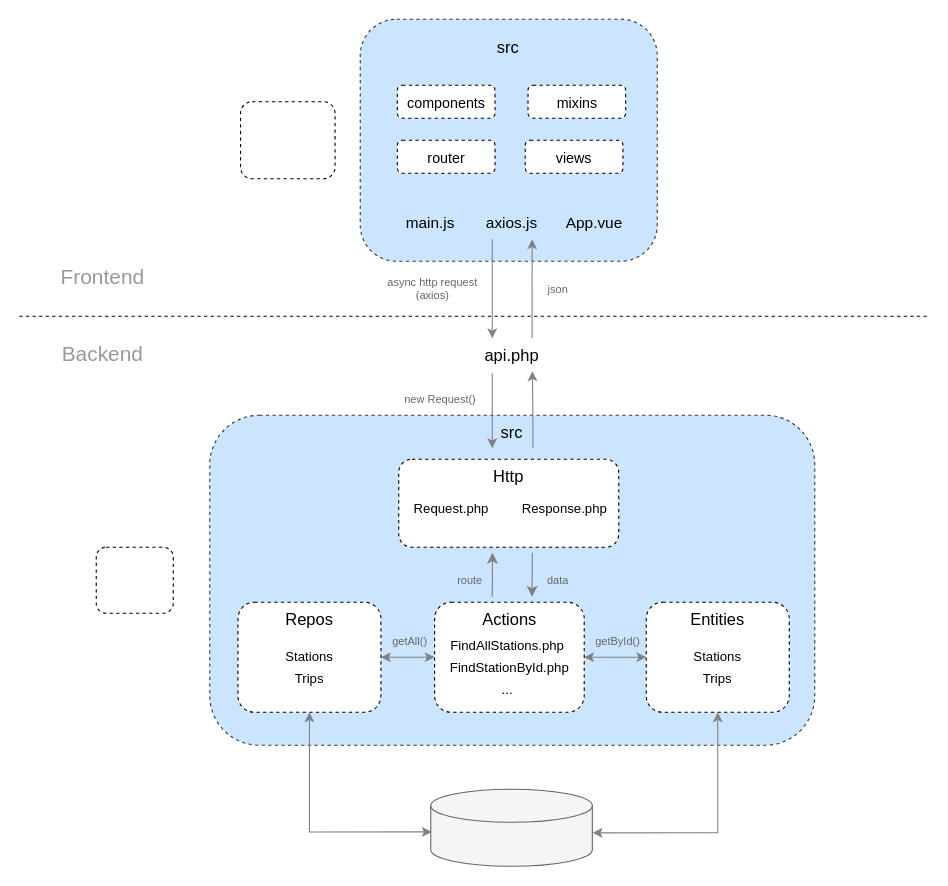
Image size: 948x886. Some labels were removed from this diagram. Each missing label, with the centre of its shape:
"config" goes at (x=134, y=579).
"database" goes at (x=511, y=827).
"index.html" goes at (x=287, y=140).
